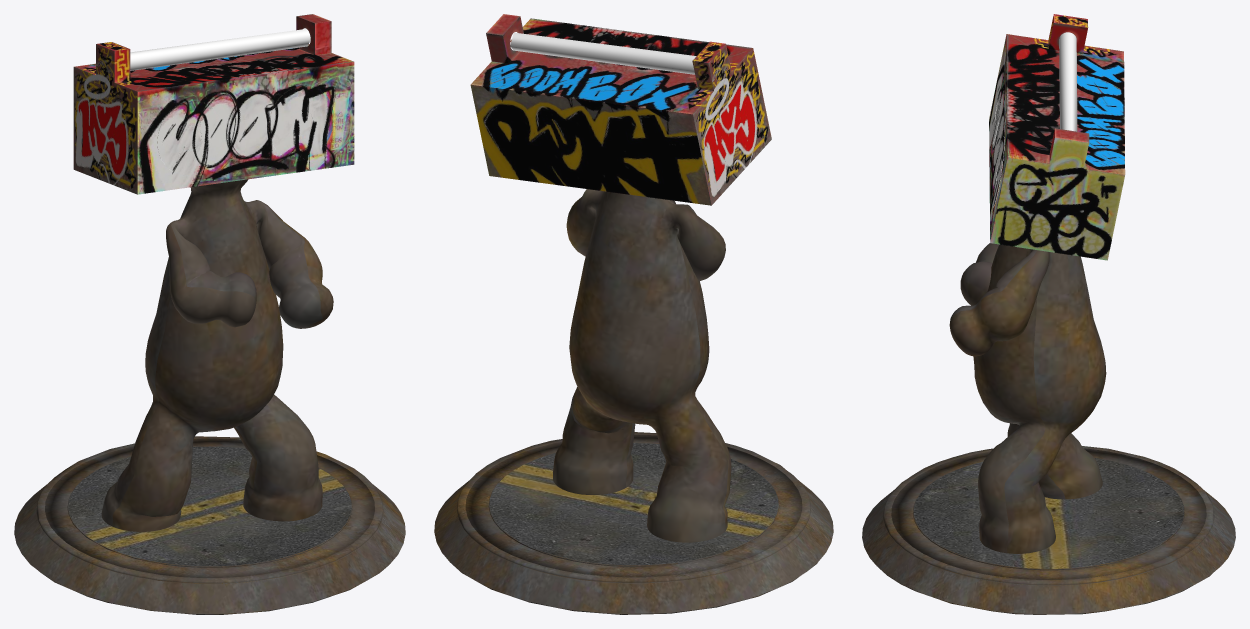
3 renders of one model, left to right at view 1: azimuth 30°, elevation 25°; view 2: azimuth 150°, elevation 25°; view 3: azimuth 270°, elevation 25°, orthographic. The views are drawn at different scales.
Size of the model in its own units: 1.45 by 2.05 by 1.45.
3 materials, 3 textured.
